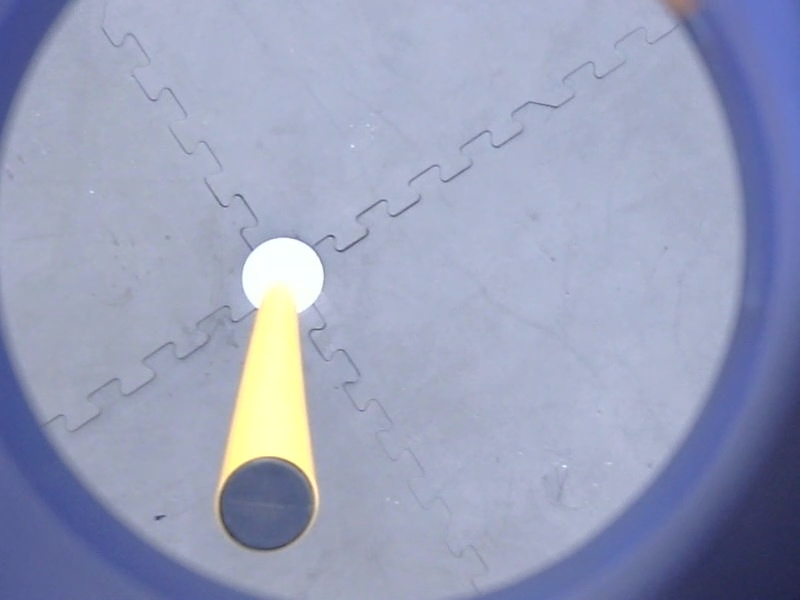tip: (208, 447, 328, 562)
